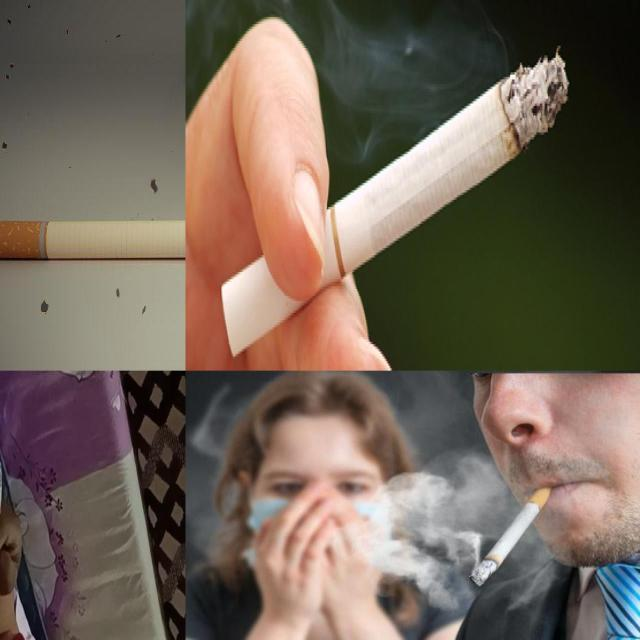smoking: (220, 49, 570, 358), (468, 485, 554, 588), (0, 220, 185, 258), (0, 460, 4, 530)
